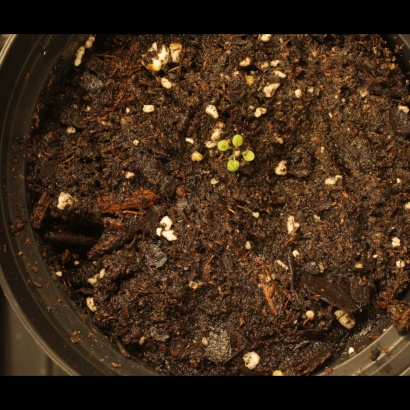leaf: (222, 158, 245, 181), (244, 145, 267, 168), (226, 127, 249, 150), (211, 136, 234, 159)
